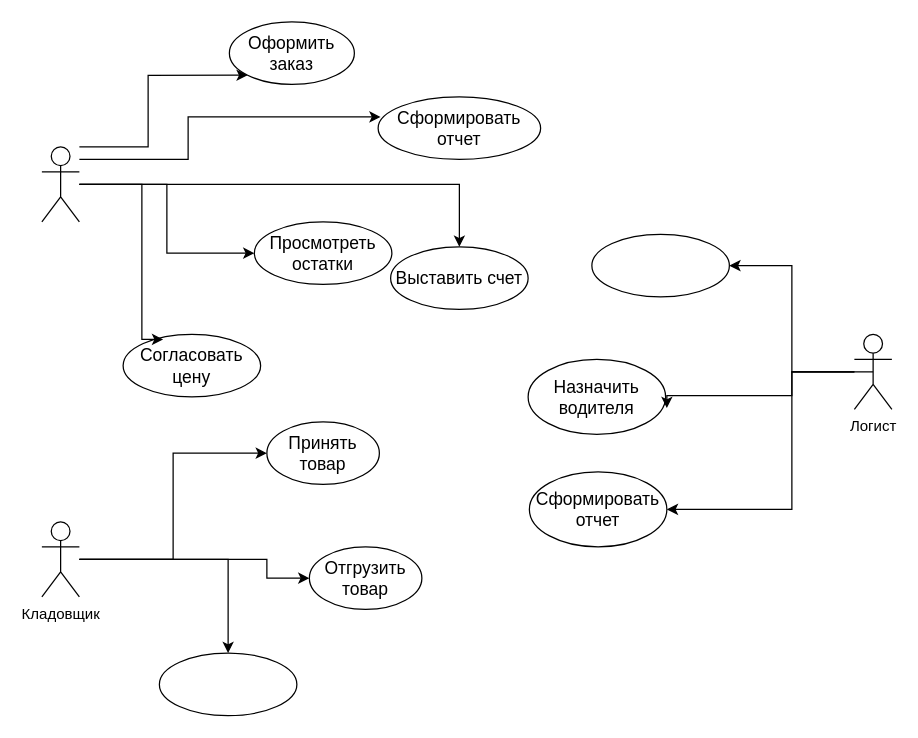
Some shapes in this 918 by 738 pixel diagram are drawn without their labels. The shapes that lost their labels are listed below. From the top down, each one's centre as x and y in pixels, then its label:
point (60, 184): Менеджер
point (660, 265): Организовать маршрут
point (227, 684): Переместить товар
